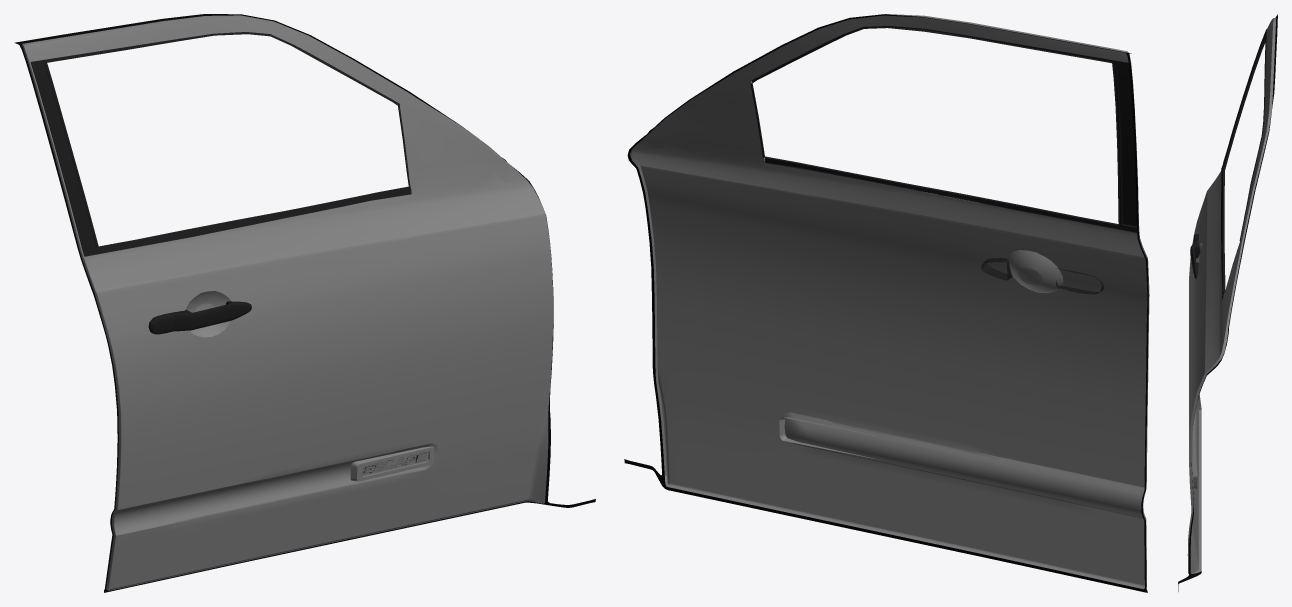
The picture shows the model from 3 angles, left to right: view 1: azimuth 30°, elevation 25°; view 2: azimuth 150°, elevation 25°; view 3: azimuth 270°, elevation 25°; orthographic projection. The views are drawn at different scales.
Parts seen in each view (by area): view 1: P712_281B_R_2_DaS_P712_281B_R, P712_281B_R_P712_281B_R_1_D, P712_281B_R_P712_281B_R_4_D, P712_281B_R_2_DaS_P712_281B_R_E, P712_281B_R_P712_281B_R_5_D; view 2: P712_281B_R_2_DaS_P712_281B_R, P712_281B_R_P712_281B_R_1_D, P712_281B_R_P712_281B_R_4_D, P712_281B_R_2_DaS_P712_281B_R_E; view 3: P712_281B_R_2_DaS_P712_281B_R, P712_281B_R_2_DaS_P712_281B_R_E, P712_281B_R_P712_281B_R_1_D, P712_281B_R_P712_281B_R_4_D.
Part boxes in pixels (bbox=[...]): P712_281B_R_2_DaS_P712_281B_R: bbox=[24, 16, 553, 590]; P712_281B_R_P712_281B_R_1_D: bbox=[30, 32, 411, 334]; P712_281B_R_P712_281B_R_4_D: bbox=[14, 14, 595, 592]; P712_281B_R_2_DaS_P712_281B_R_E: bbox=[22, 15, 411, 590]; P712_281B_R_P712_281B_R_5_D: bbox=[350, 446, 433, 481]; P712_281B_R_2_DaS_P712_281B_R: bbox=[632, 15, 1147, 587]; P712_281B_R_P712_281B_R_1_D: bbox=[750, 26, 1137, 294]; P712_281B_R_P712_281B_R_4_D: bbox=[624, 14, 1148, 592]; P712_281B_R_2_DaS_P712_281B_R_E: bbox=[630, 14, 1149, 589]; P712_281B_R_2_DaS_P712_281B_R: bbox=[1189, 18, 1273, 573]; P712_281B_R_2_DaS_P712_281B_R_E: bbox=[1187, 18, 1276, 573]; P712_281B_R_P712_281B_R_1_D: bbox=[1190, 29, 1266, 299]; P712_281B_R_P712_281B_R_4_D: bbox=[1178, 14, 1277, 591].
Size of the model in its own units: 156 by 155 by 35.57.
